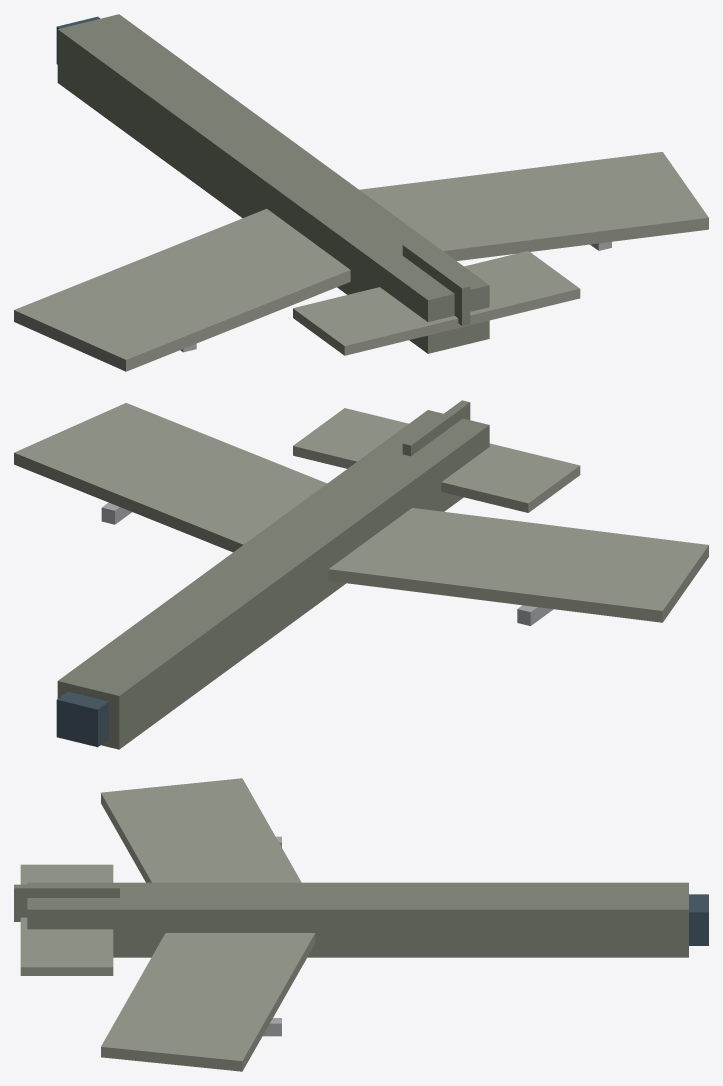
File: western_aircraft.glb
3 views of the same model, one above another, from view 1: azimuth 30°, elevation 25°; view 2: azimuth 150°, elevation 25°; view 3: azimuth 270°, elevation 25° (orthographic). The views are drawn at different scales.
Parts seen in each view (by area): view 1: hull, WingL, WingR, Tail, Fin; view 2: hull, WingL, WingR, Tail, Nose, Fin; view 3: hull, WingR, WingL, Tail, Fin, Nose.
Boxes of the visible parts, x1,y1,x2,y2 form: hull: (57,14,489,353); WingL: (14,208,350,371); WingR: (306,152,708,265); Tail: (293,251,580,355); Fin: (402,243,470,325); hull: (57,410,489,749); WingL: (328,508,708,622); WingR: (14,403,414,552); Tail: (293,408,580,512); Nose: (56,691,108,747); Fin: (402,400,470,456); hull: (27,882,688,957); WingR: (101,933,315,1071); WingL: (101,778,301,882); Tail: (20,864,113,975); Fin: (14,884,119,921); Nose: (689,894,708,945).
Size of the model in its own units: 12.64 by 1.2 by 13.12.
